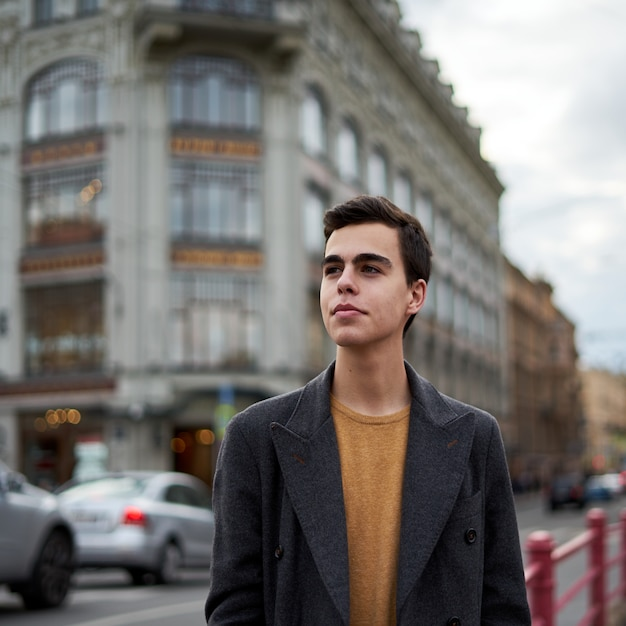young: (314, 192, 438, 362)
